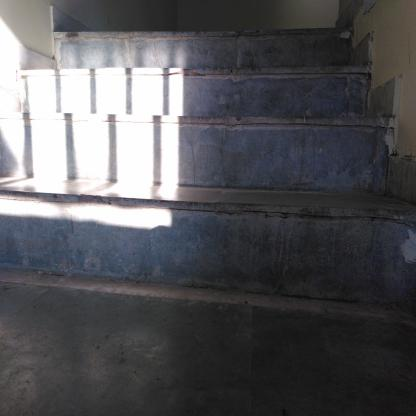stairs: (55, 26, 351, 301)
